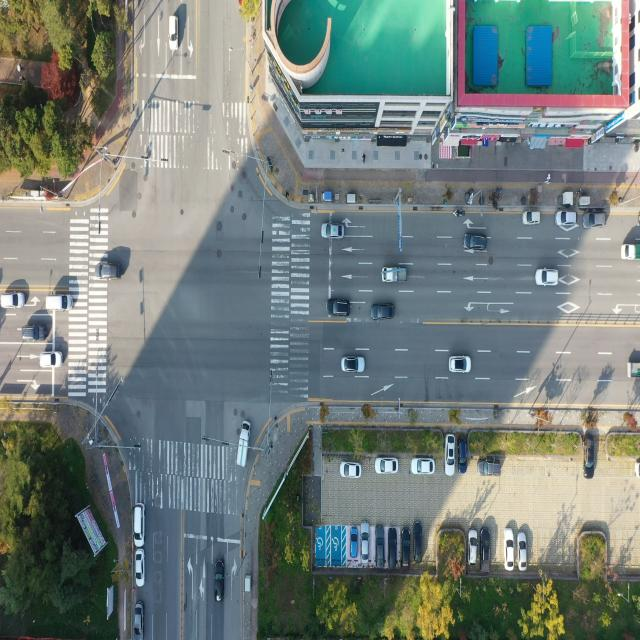car: (134, 504, 146, 548), (476, 457, 501, 478), (584, 433, 595, 474), (462, 235, 487, 253), (46, 294, 71, 312), (22, 325, 48, 342), (97, 264, 121, 282), (411, 458, 435, 476), (215, 560, 225, 602), (342, 356, 365, 374), (329, 301, 352, 319), (446, 434, 456, 475), (386, 529, 396, 570), (584, 212, 608, 229), (374, 523, 384, 563), (413, 522, 423, 562), (536, 268, 558, 286), (323, 222, 345, 240), (376, 458, 399, 475), (135, 548, 145, 587), (360, 525, 370, 564), (400, 529, 410, 568), (483, 529, 492, 572), (0, 292, 24, 308), (372, 305, 394, 322), (40, 351, 62, 368), (134, 603, 144, 640), (450, 356, 470, 374), (505, 532, 514, 572), (556, 212, 577, 228), (458, 440, 468, 473), (468, 528, 477, 564), (170, 15, 179, 51), (341, 462, 361, 478), (519, 532, 527, 570), (350, 527, 359, 560), (522, 211, 540, 225)
small_truck: (236, 419, 249, 467), (382, 268, 407, 285), (622, 242, 640, 260), (628, 361, 640, 377)
